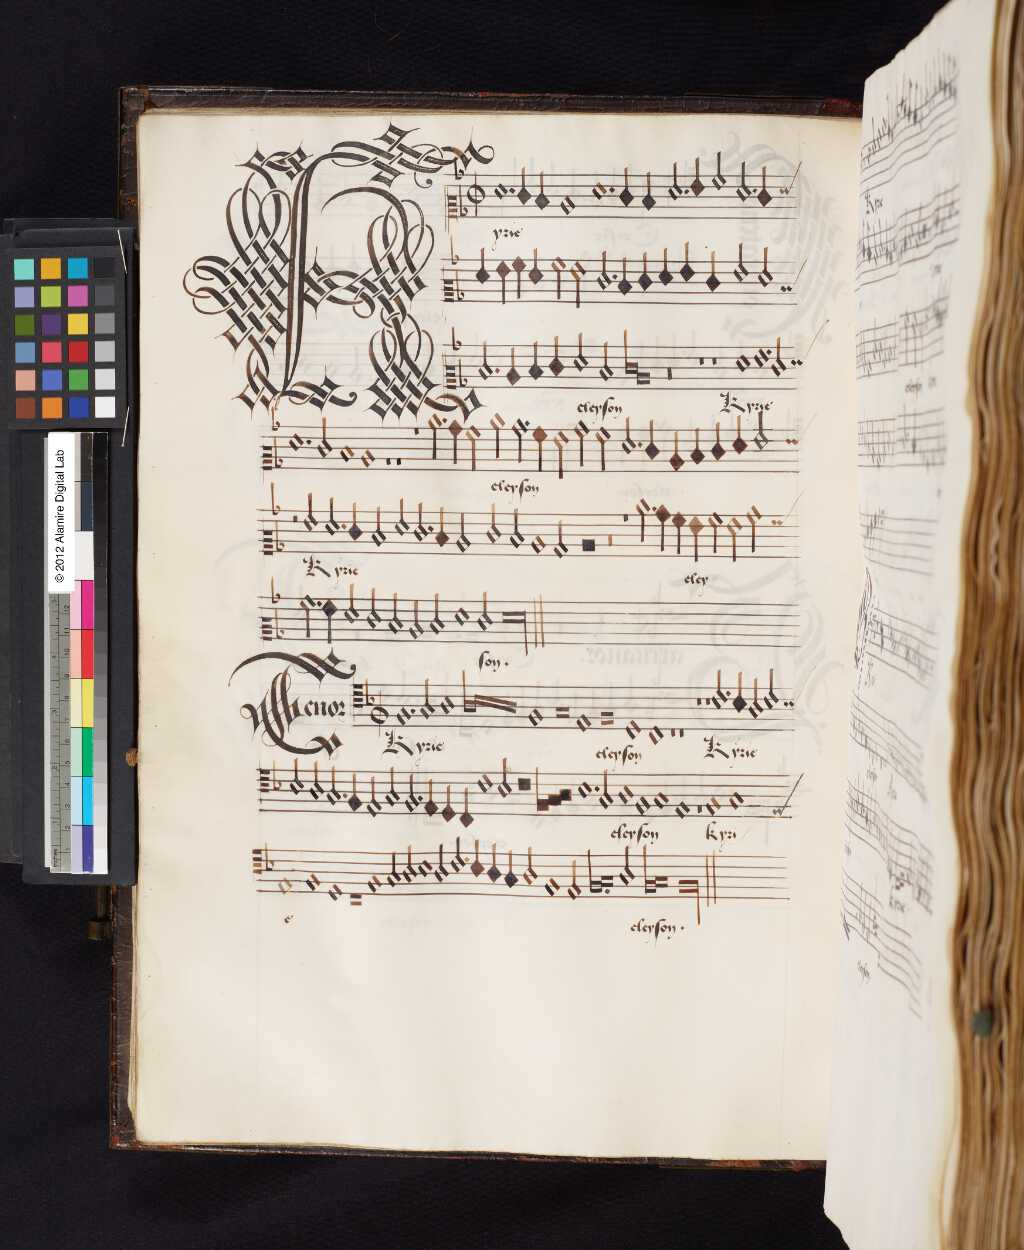breve rest: (661, 336, 677, 401)
c clef_9: (439, 353, 461, 402)
custos_6: (783, 342, 808, 381)
flat_10: (455, 353, 470, 395)
flat_3: (444, 319, 464, 360)
l1semibreve_7: (618, 324, 641, 392)
l2semibreve_9: (634, 364, 653, 389)
minim_6: (570, 323, 589, 378)
minim_7: (770, 327, 787, 384)
minim_8: (475, 332, 492, 388), (597, 332, 615, 388)
point: (488, 358, 501, 379), (761, 342, 774, 361)
semibreve rest: (692, 333, 707, 395), (707, 330, 722, 392)
semibreve_5: (752, 336, 769, 374)
semibreve_6: (732, 343, 753, 382)
semiminim_7: (548, 329, 565, 385)
semiminim_8: (527, 333, 546, 388)
semiminim_9: (504, 337, 512, 395)
